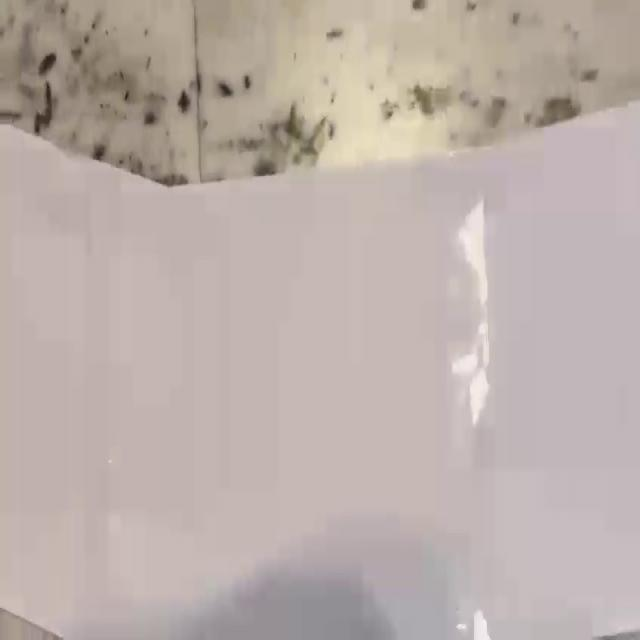road: (0, 103, 640, 640)
